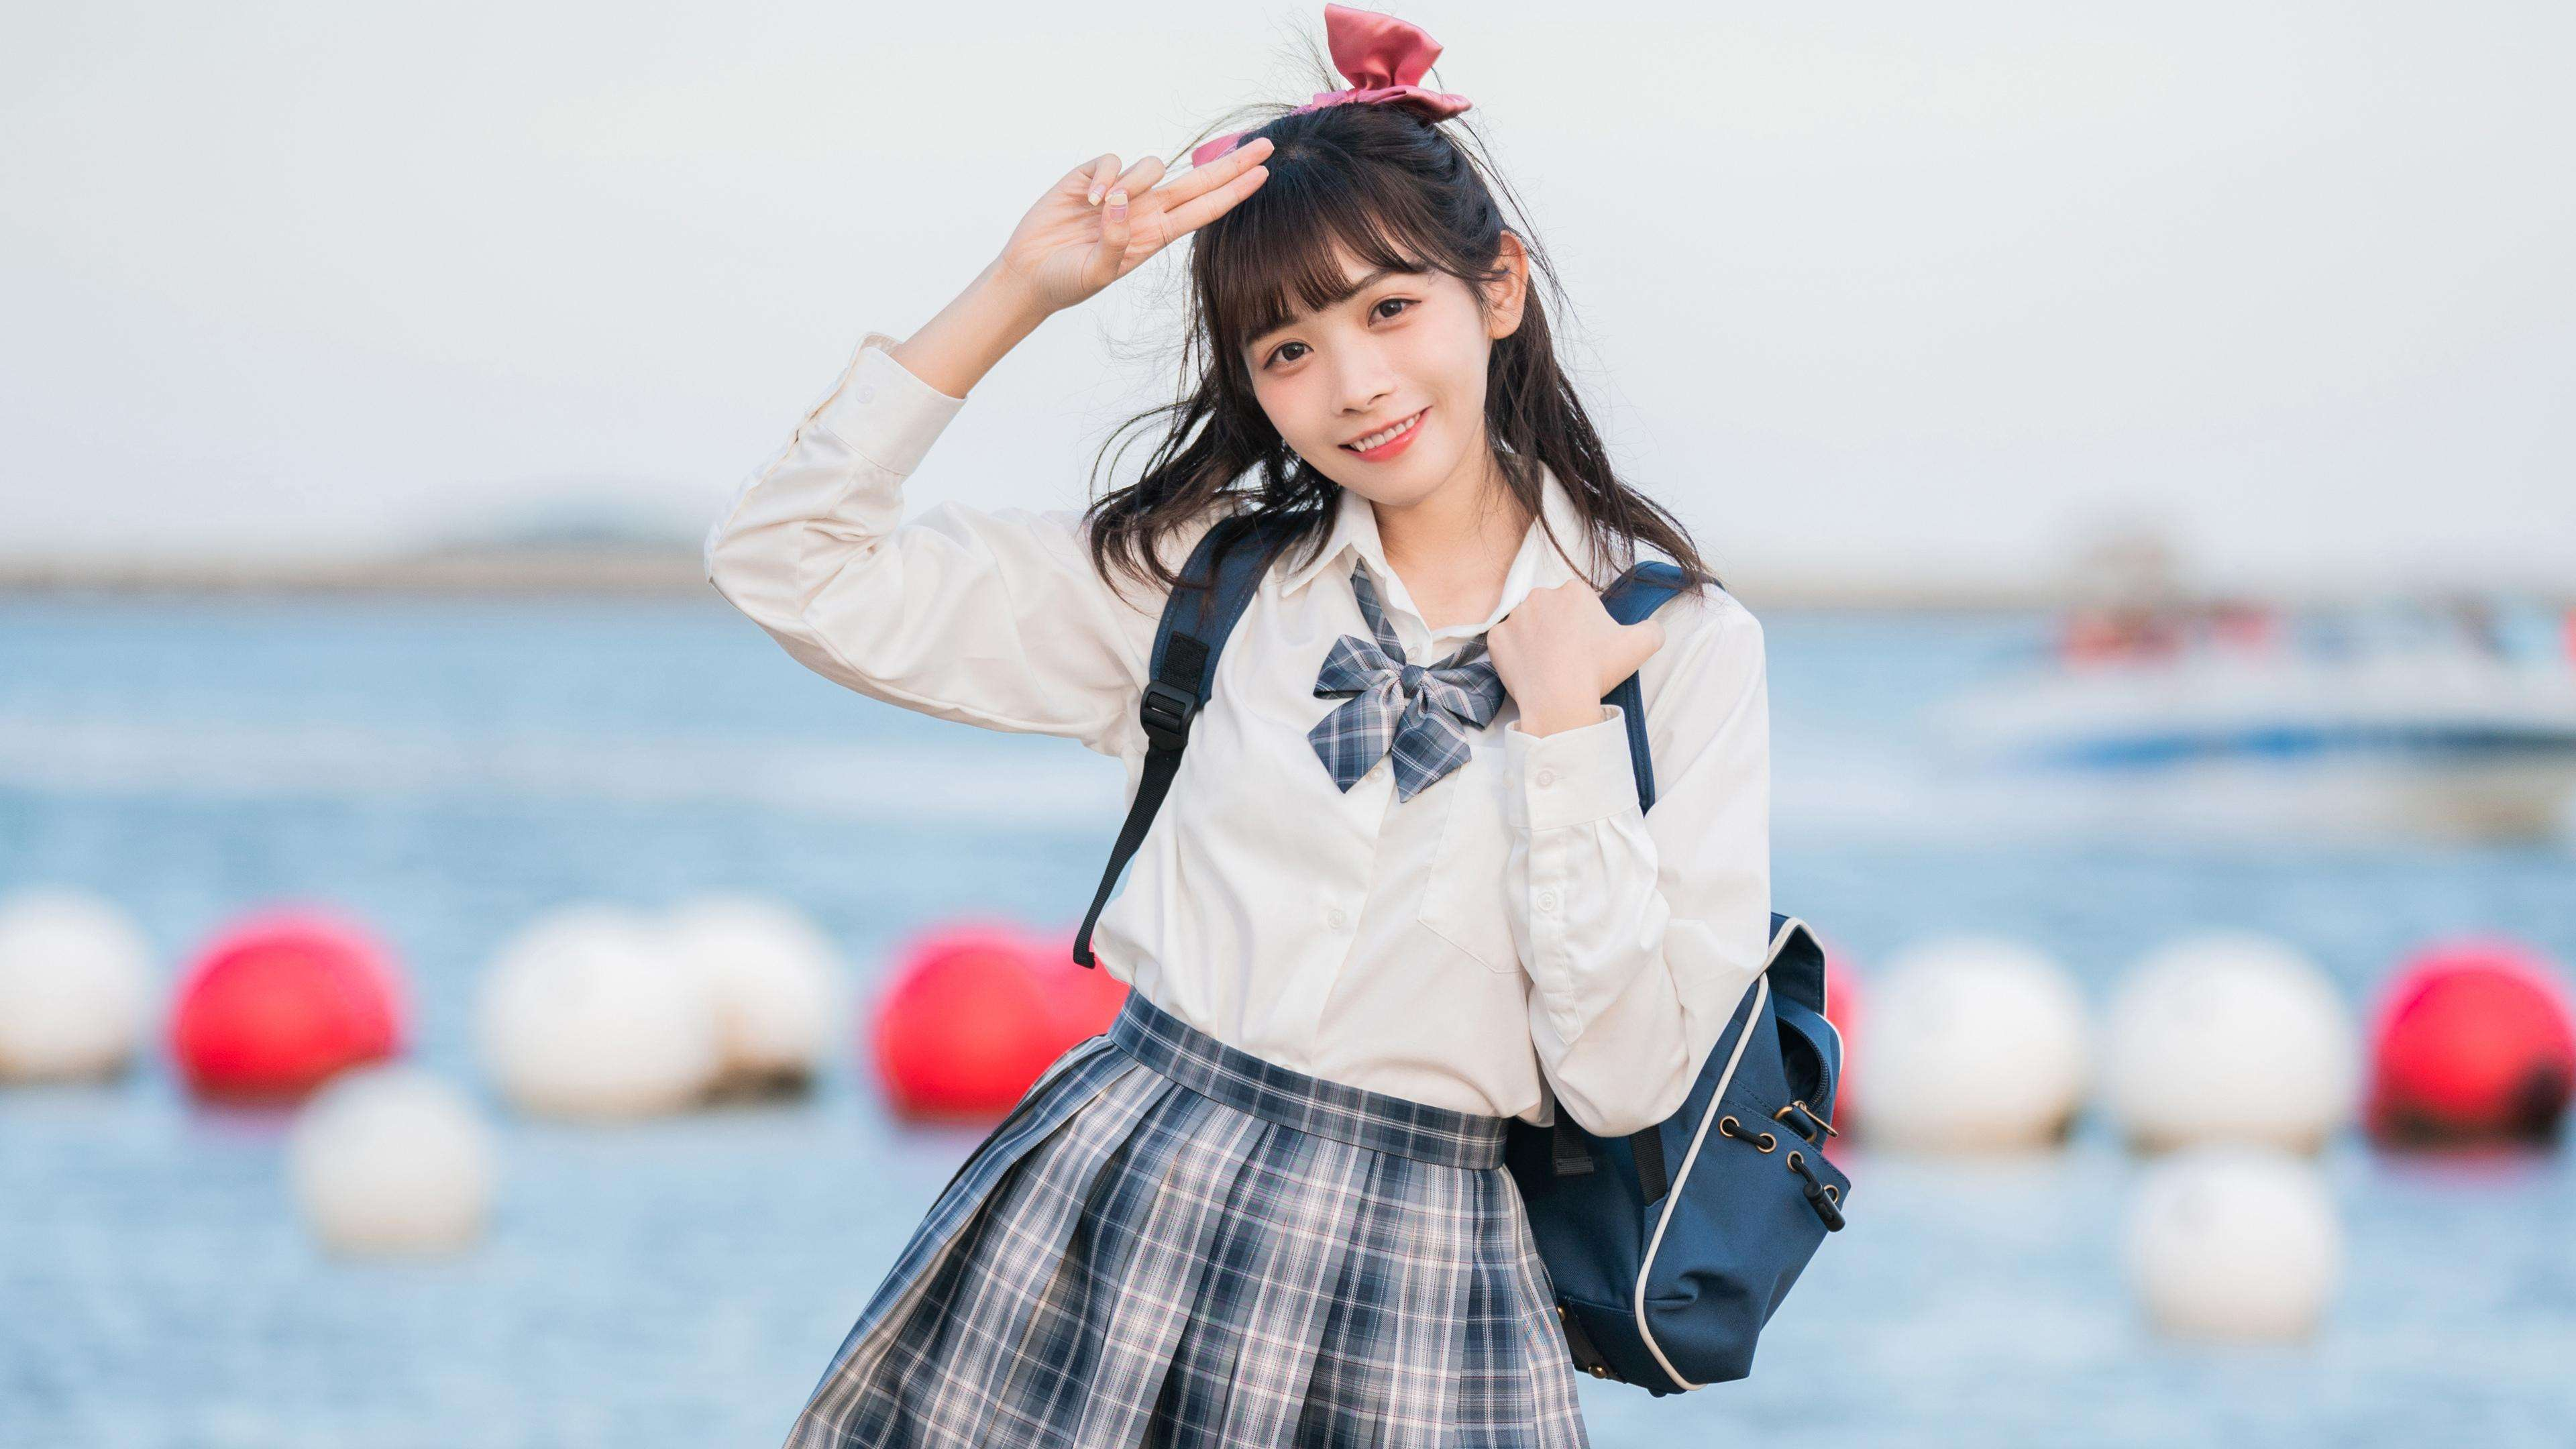person: (969, 59, 1854, 1375)
